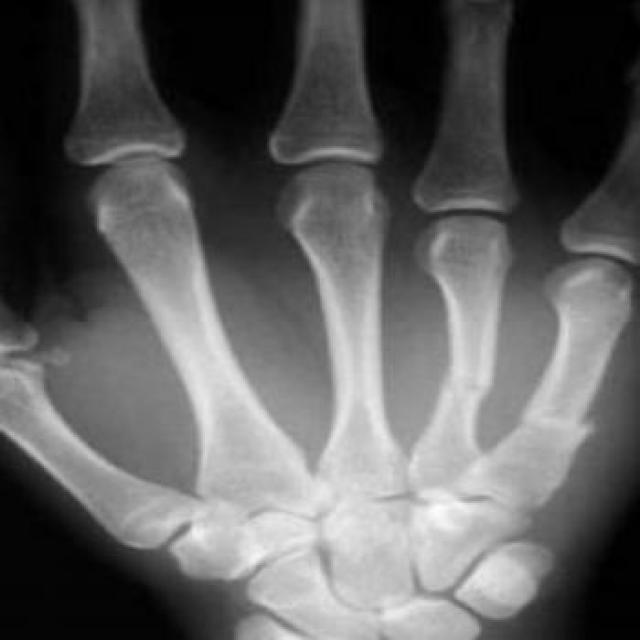Fracture: (516, 404, 604, 446), (433, 360, 501, 404)
